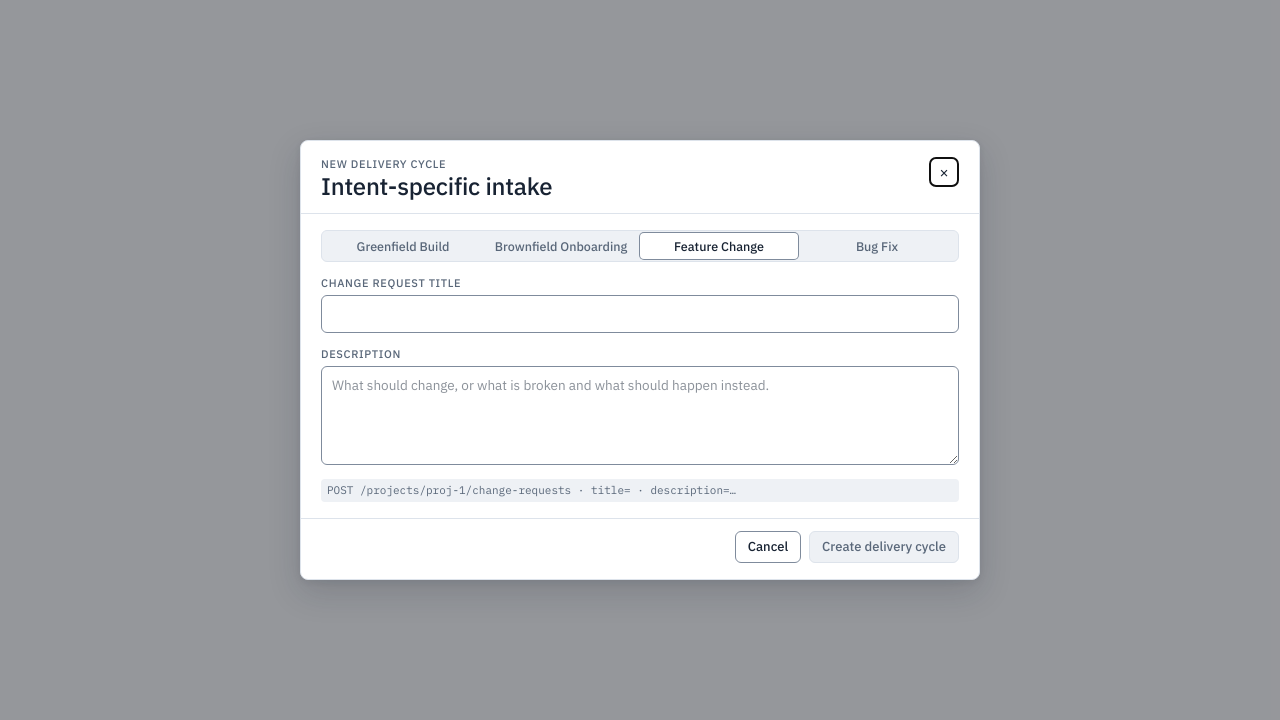
IntakeFormDialog change request and defect intake › bug fix shows the intake rejection reason
The image size is (1280, 720).
Click the radio button labelled "Bug Fix".
click(877, 246)  # box [798, 233, 956, 259]
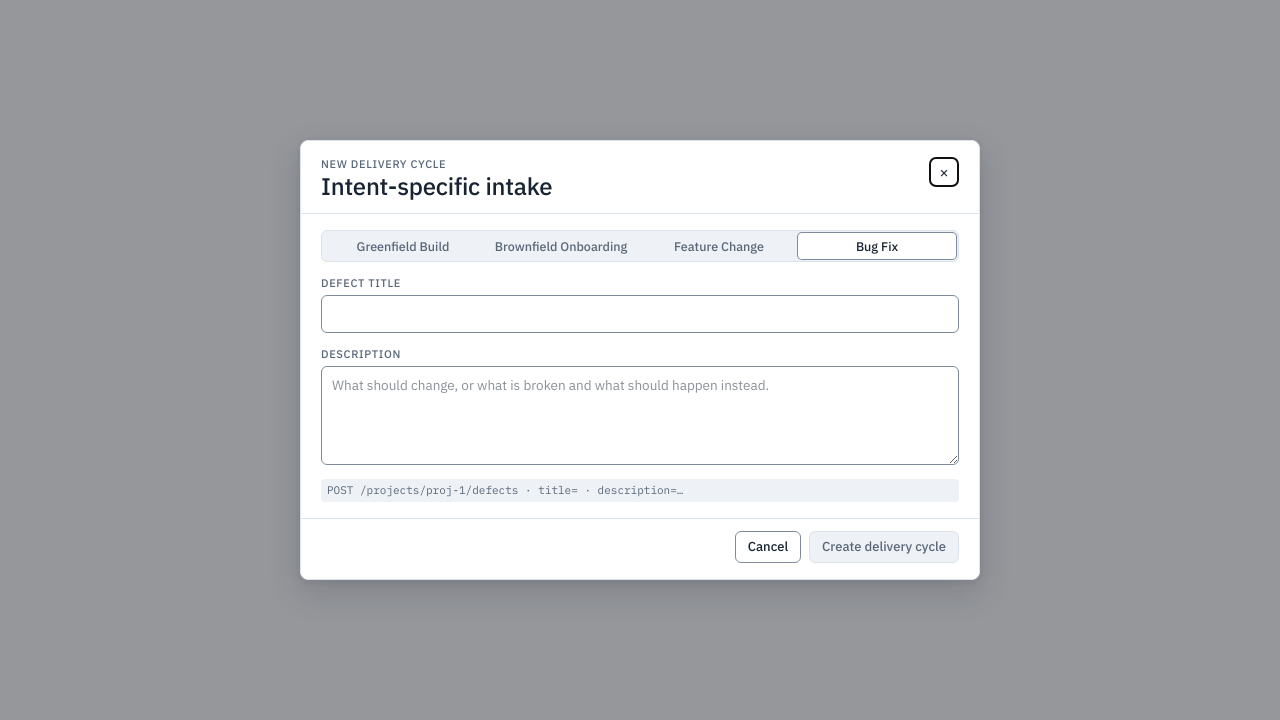
Type "Closed update 500" into the field labelled "Defect title".
click(640, 314); type("Closed update 500")  # box [321, 295, 959, 333]
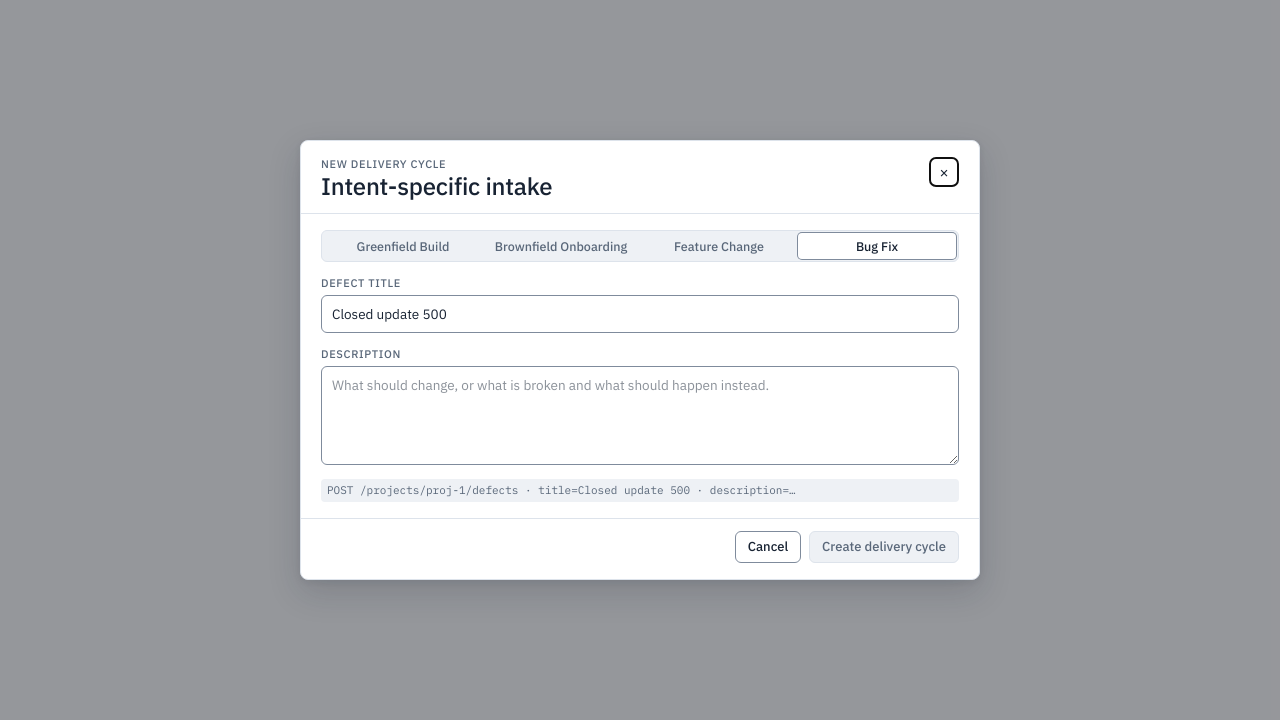
Replace the text in the text box labelled "Description" with "PATCH returns 500" at coordinates (640, 416), box [321, 366, 959, 465]
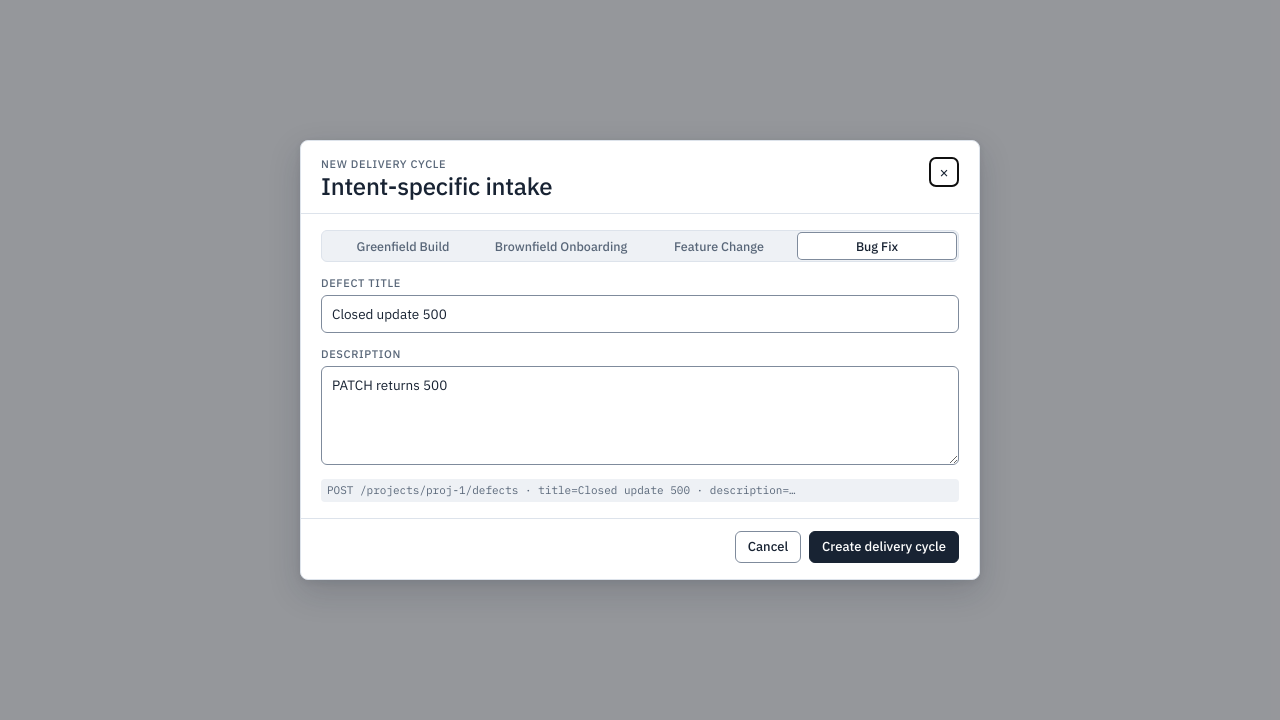
Check: the button "Create delivery cycle" is enabled
Click the button "Create delivery cycle".
click(884, 547)  # box [809, 531, 959, 563]
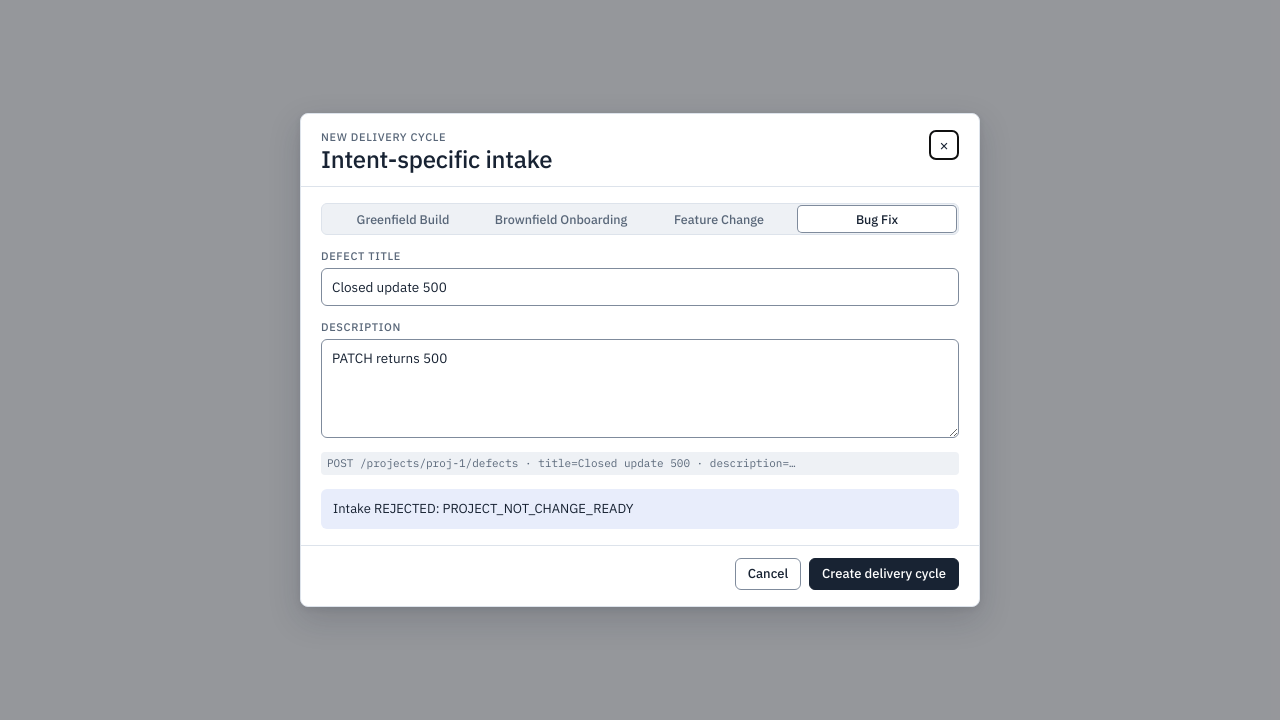
Check: the text "Intake REJECTED: PROJECT_NOT_CHANGE_READY" is shown, box [321, 489, 959, 529]
